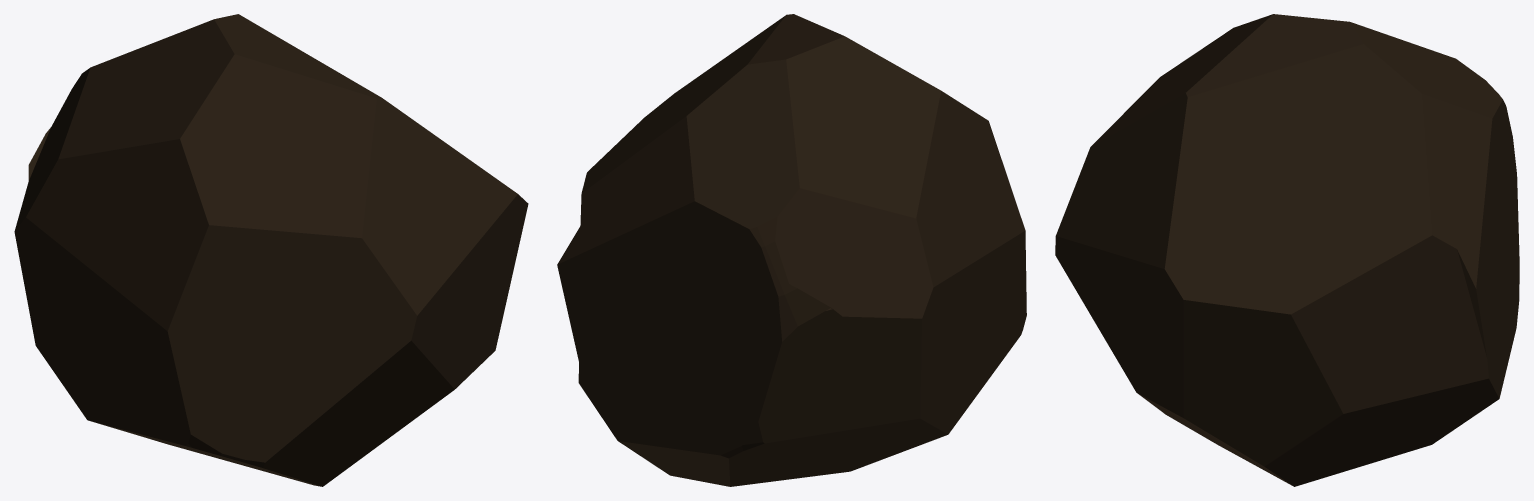
File: rock.dae
3 views of the same model, side by side, from view 1: azimuth 30°, elevation 25°; view 2: azimuth 150°, elevation 25°; view 3: azimuth 270°, elevation 25° (orthographic). The views are drawn at different scales.
Visible parts, largest first — view 1: Sphere; view 2: Sphere; view 3: Sphere.
Boxes of the visible parts, x1,y1,x2,y2 form: Sphere: (14, 14, 528, 486); Sphere: (557, 14, 1026, 486); Sphere: (1055, 14, 1519, 486).
Bounding box in the file's own units: 1.72 × 1.8 × 1.75.
